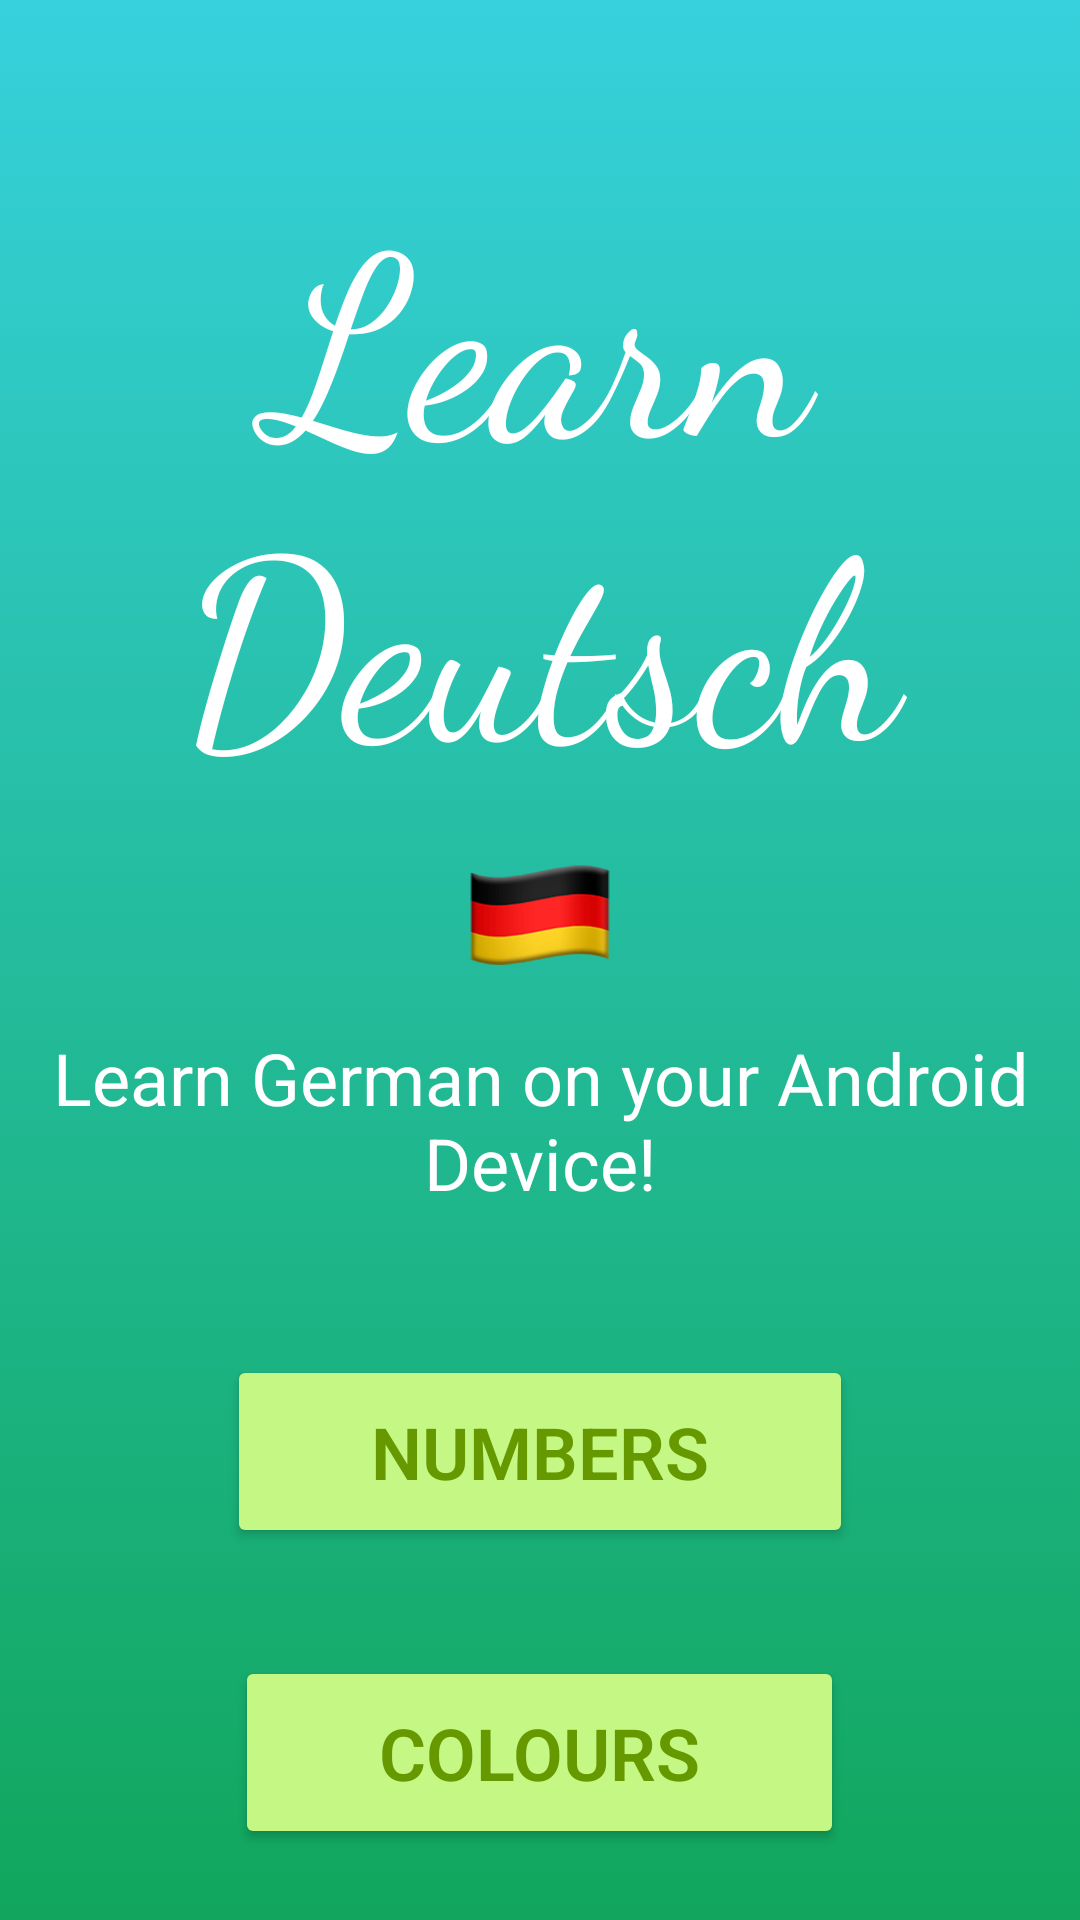

Where to tap for icons on this 1080*1920 app screen, as (x,y):
picture of a german flag: (540,915)
